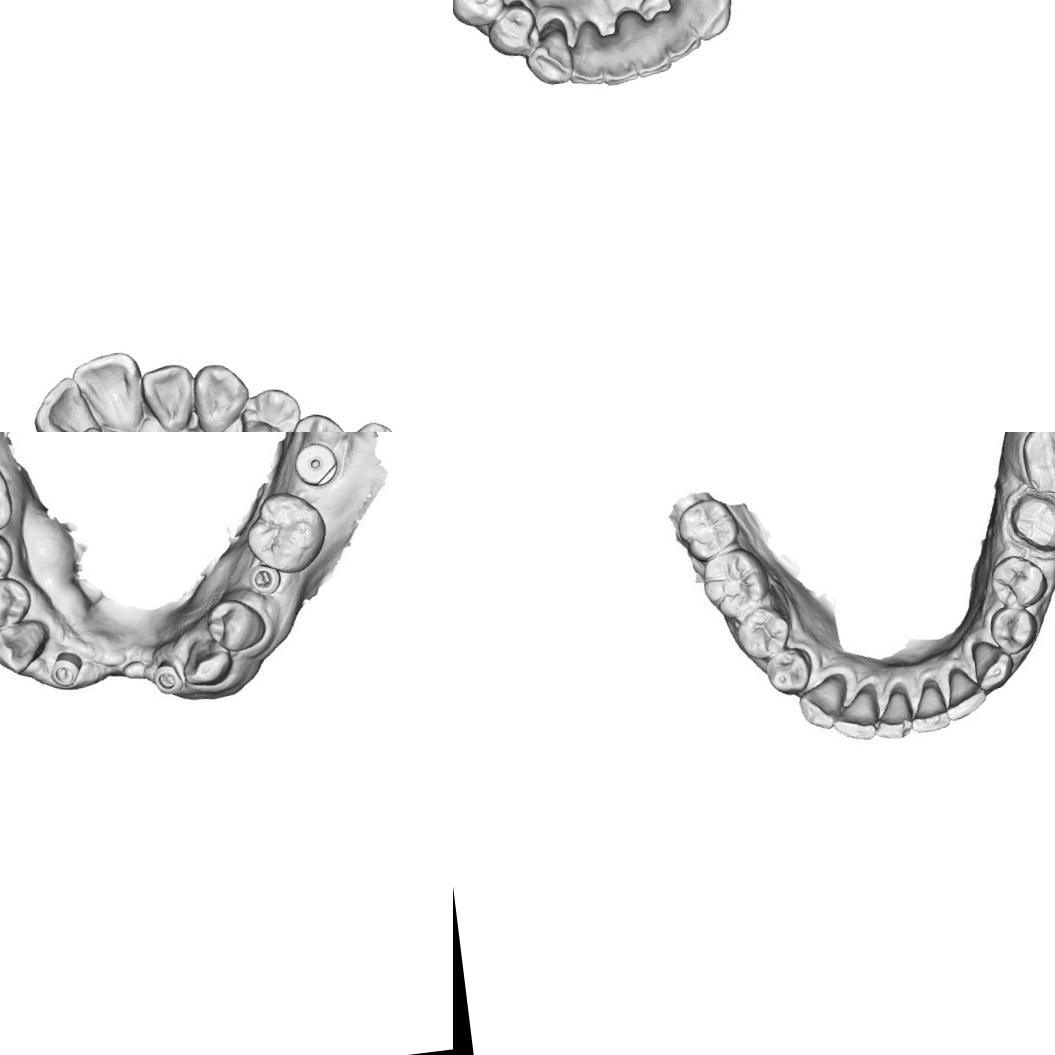canine: (187, 356, 257, 432), (522, 18, 577, 92), (968, 634, 1016, 692), (796, 678, 842, 731)
crown: (1010, 490, 1055, 559)
implant: (292, 436, 342, 494), (49, 650, 87, 691), (247, 558, 282, 600), (148, 658, 182, 698)
incisor: (66, 344, 153, 432), (29, 372, 112, 432), (137, 353, 199, 432), (617, 7, 676, 81), (561, 15, 615, 89), (590, 16, 642, 90), (662, 0, 738, 46), (651, 0, 705, 64), (830, 686, 881, 744), (0, 615, 50, 672), (179, 634, 231, 682), (944, 664, 987, 722), (871, 686, 916, 740), (909, 677, 950, 734)
molar: (246, 491, 324, 575), (700, 546, 769, 618), (676, 495, 737, 564), (1018, 432, 1055, 494), (0, 572, 36, 635), (0, 534, 10, 580)
premolar: (232, 381, 307, 432), (481, 0, 540, 61), (202, 598, 265, 654), (992, 551, 1046, 613), (736, 606, 788, 664), (764, 648, 815, 702), (989, 604, 1041, 654), (453, 0, 508, 32), (283, 408, 351, 432)
